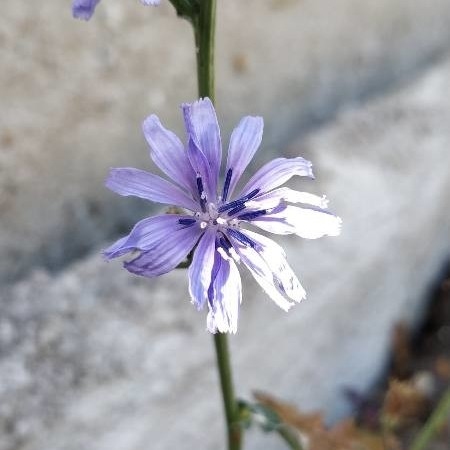obstacle: (116, 70, 334, 402)
